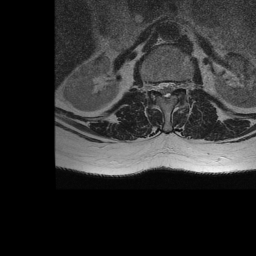CCS_normal: (163, 76, 168, 100)
LFS_normal: (175, 76, 181, 94)
LLS_normal: (169, 77, 175, 95)
RFS_normal: (150, 77, 157, 96)
RLS_normal: (157, 78, 163, 97)
